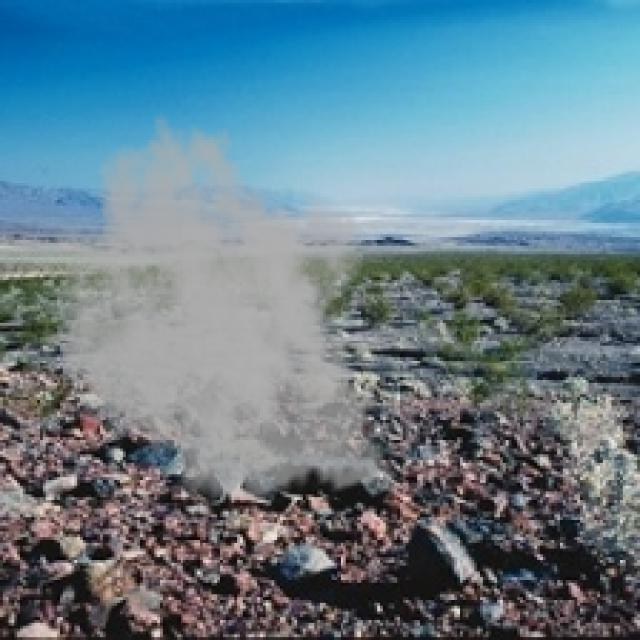Smoke: (54, 112, 400, 514)
